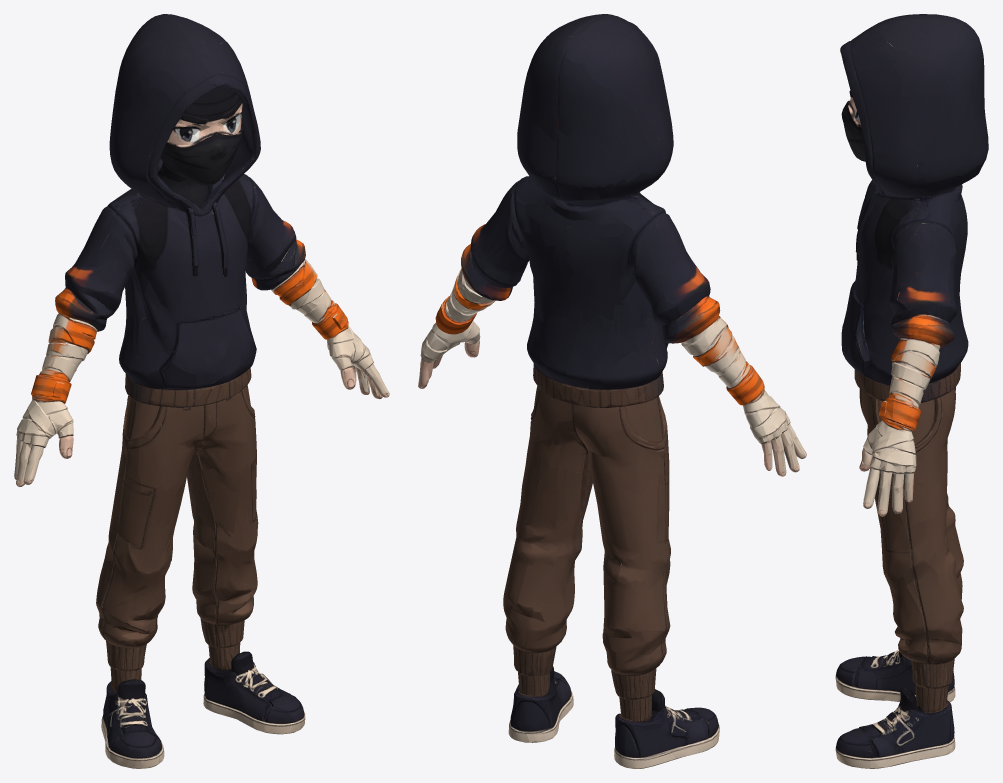
Rendered from hero_meshy_v1_textured.glb.
3 views of the same model, side by side, from view 1: azimuth 30°, elevation 25°; view 2: azimuth 150°, elevation 25°; view 3: azimuth 270°, elevation 25° (orthographic). The views are drawn at different scales.
Size of the model in its own units: 1.05 by 1.9 by 0.374.
1 material, 1 textured.
